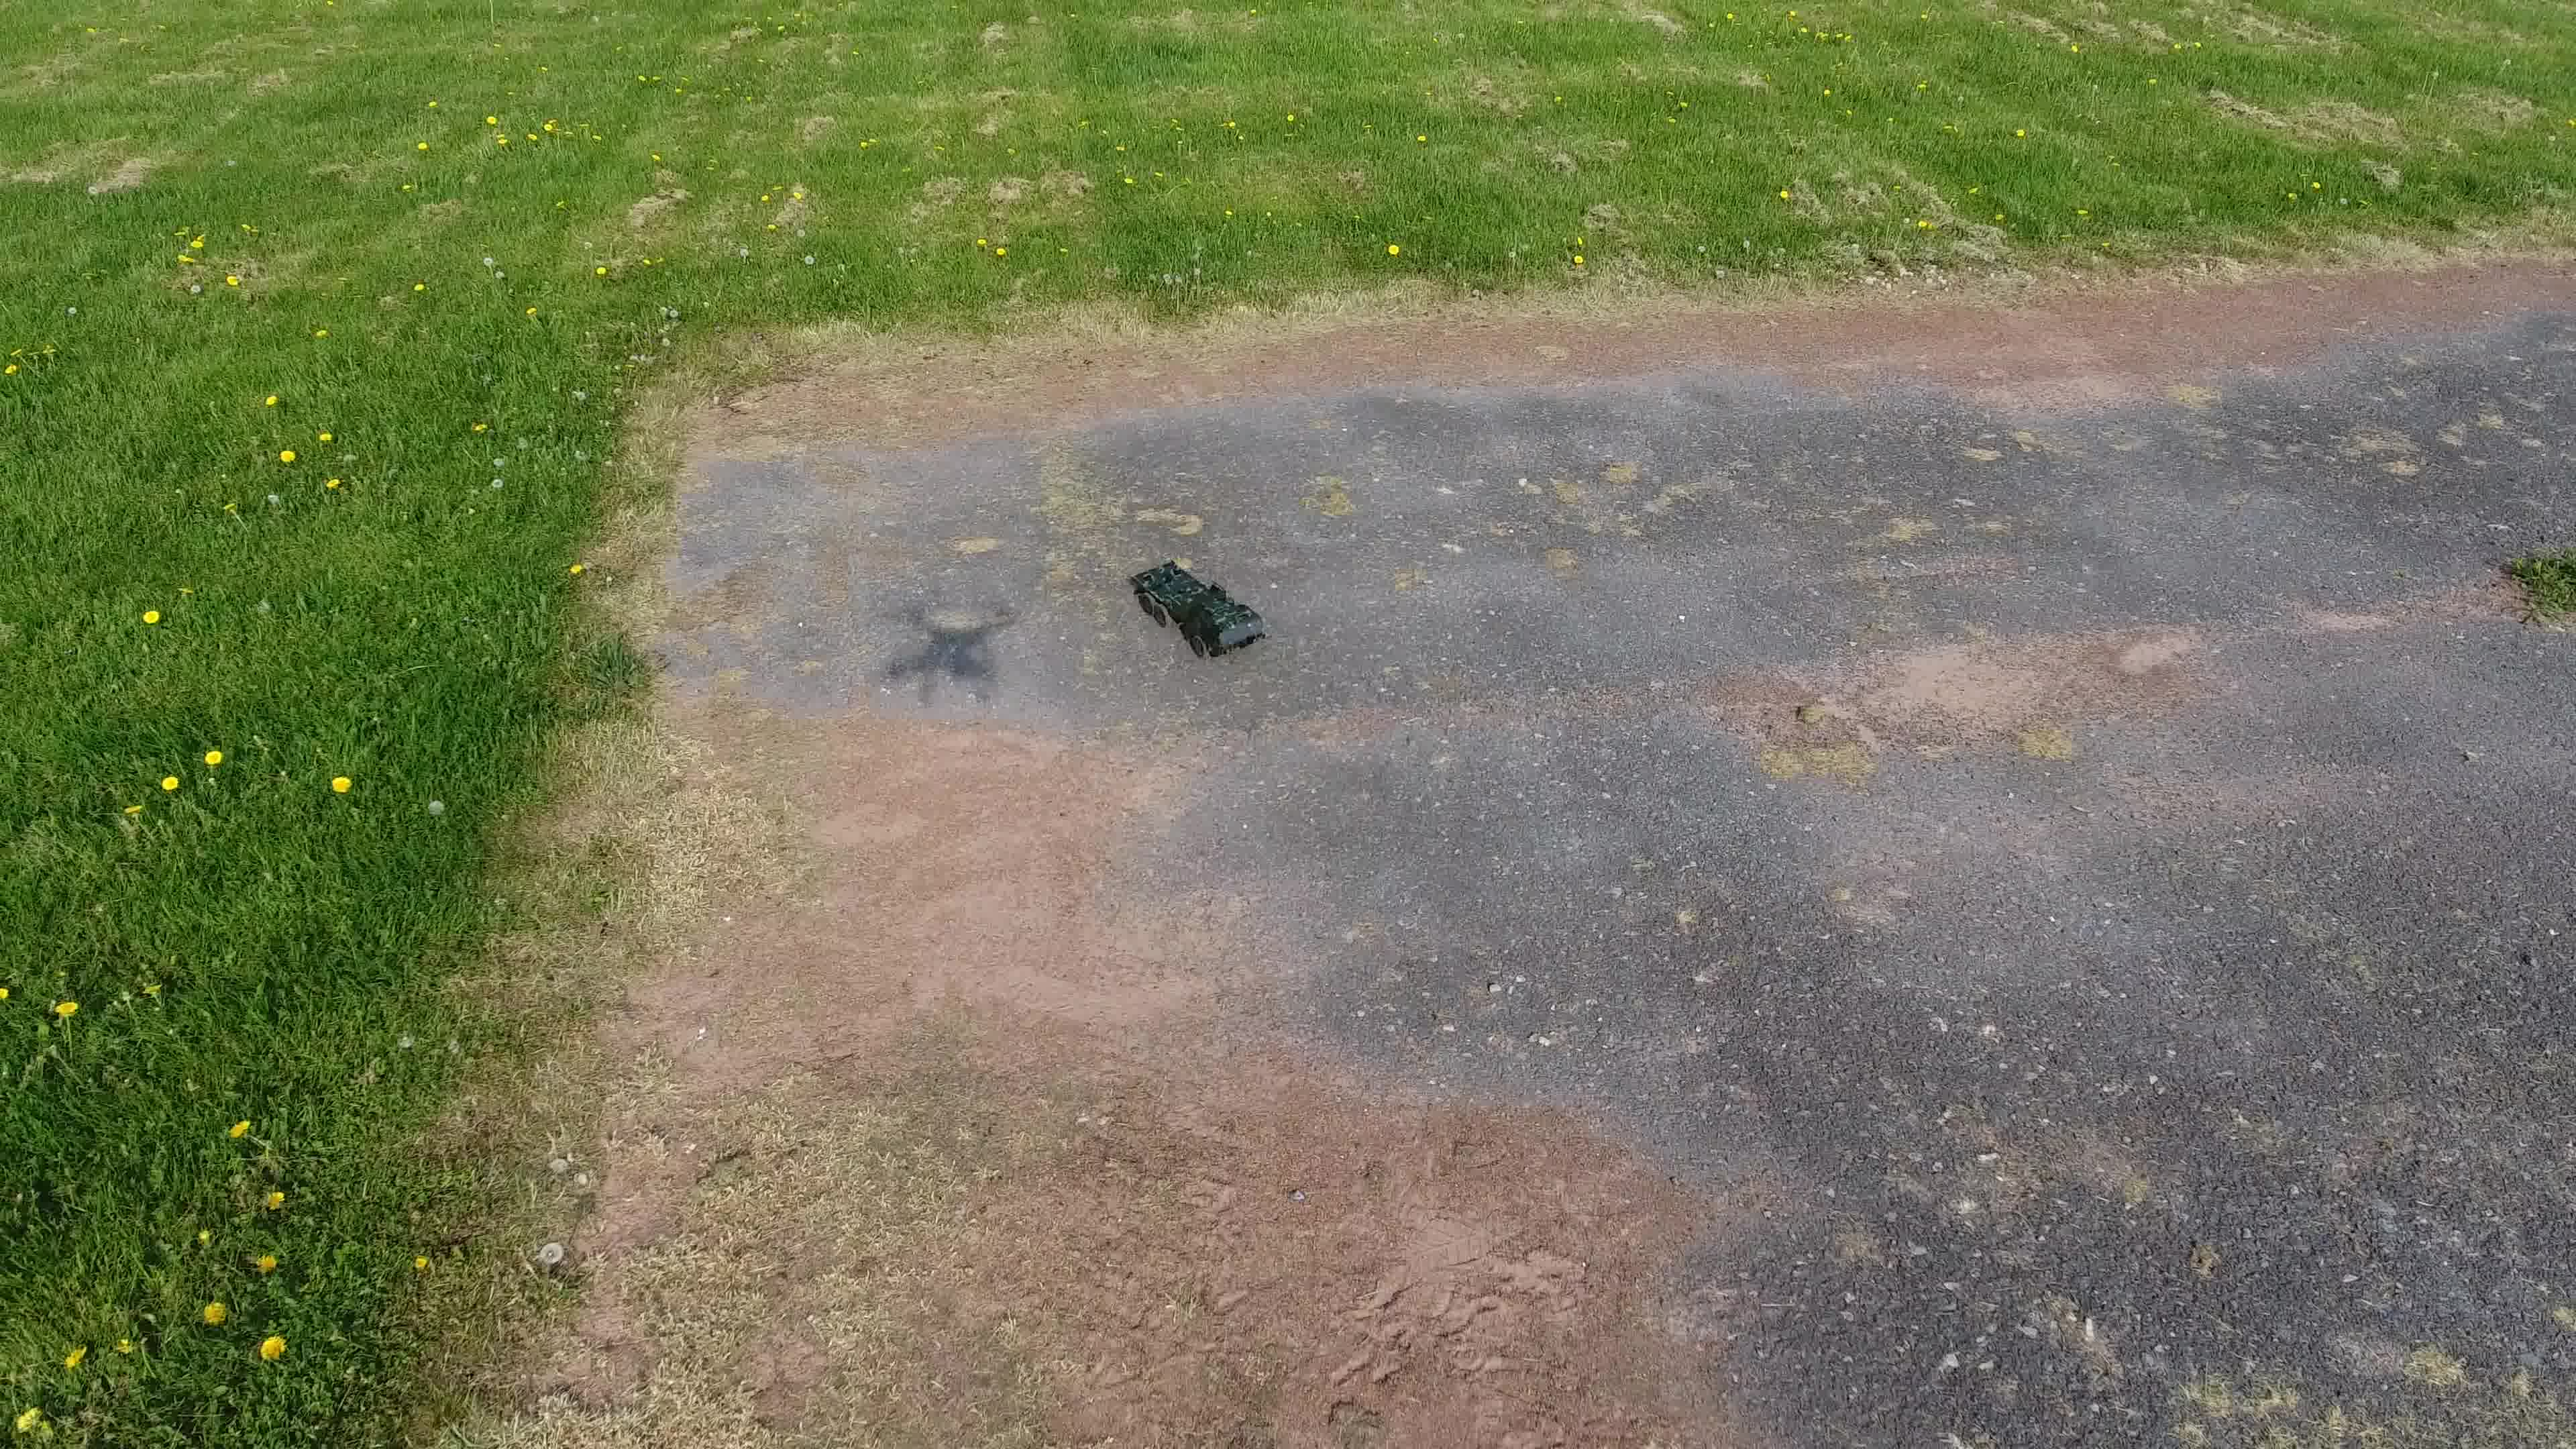transporter9_camo: (1123, 552, 1269, 660)
